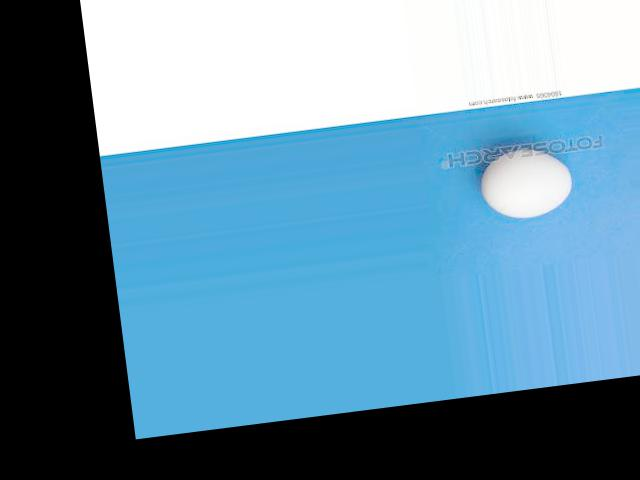egg: (477, 142, 574, 222)
